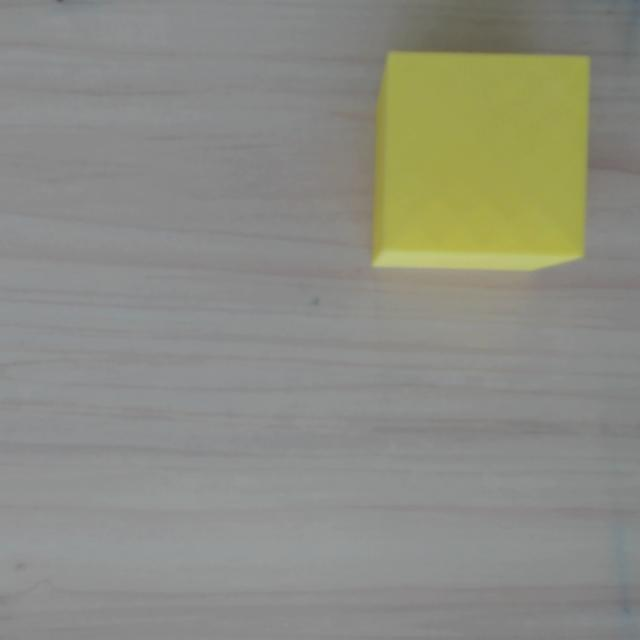Kubus-Kuning-505050: (372, 52, 589, 272)
